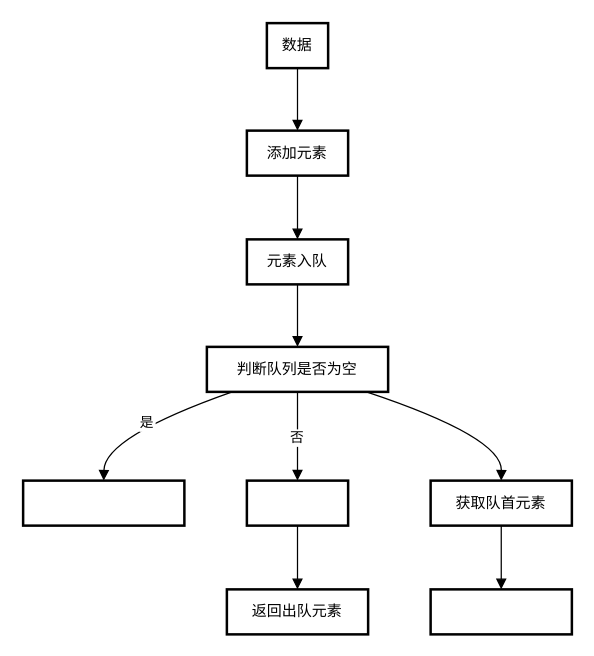
Image size: 594x656. Some labels were removed from this diagram. Each missing label, with the box of its shape:
元素出队: (245, 479, 349, 526)
返回空队列状态: (21, 479, 185, 526)
返回队首元素: (429, 588, 572, 635)
